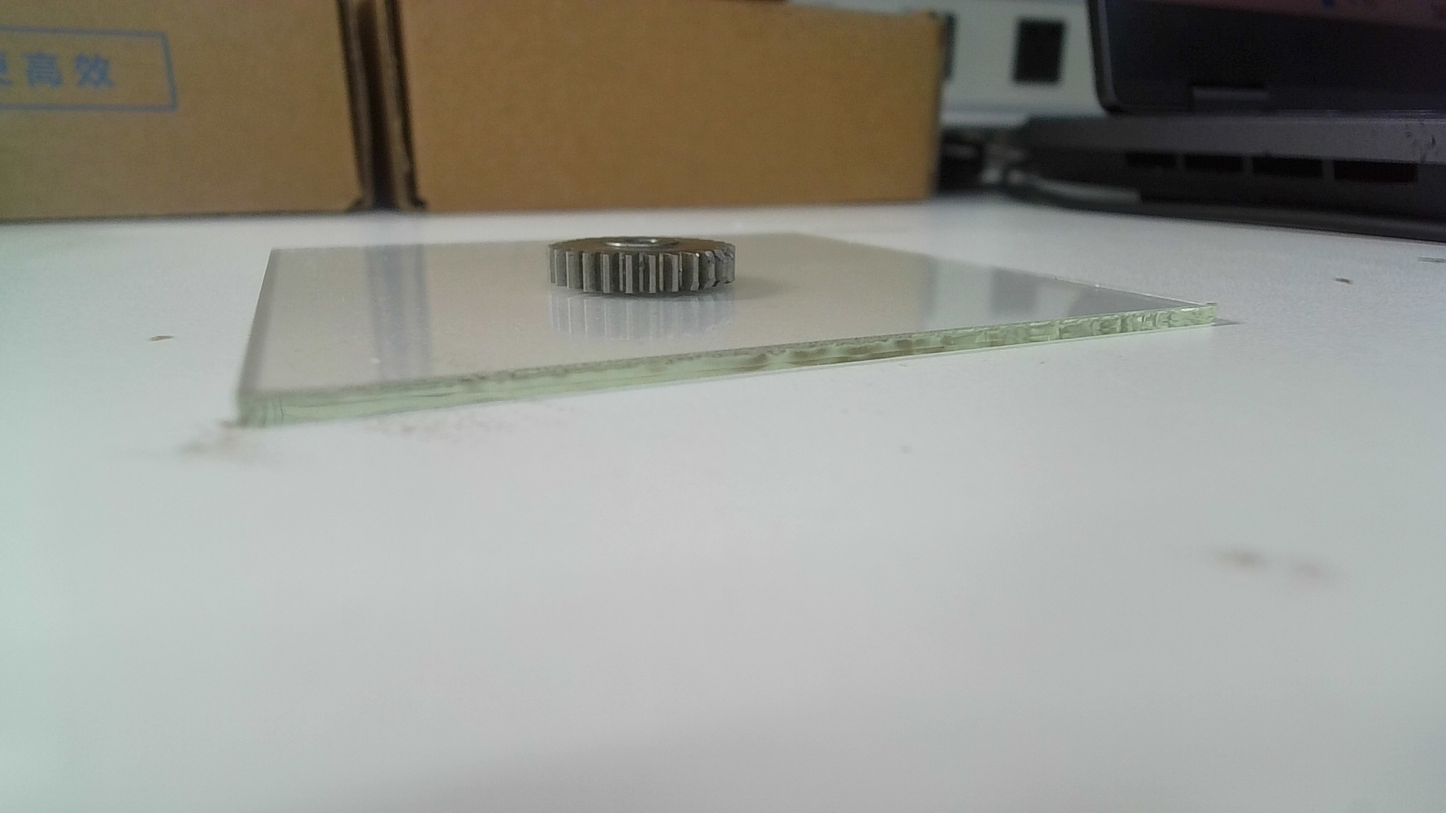gear: (543, 234, 741, 300)
